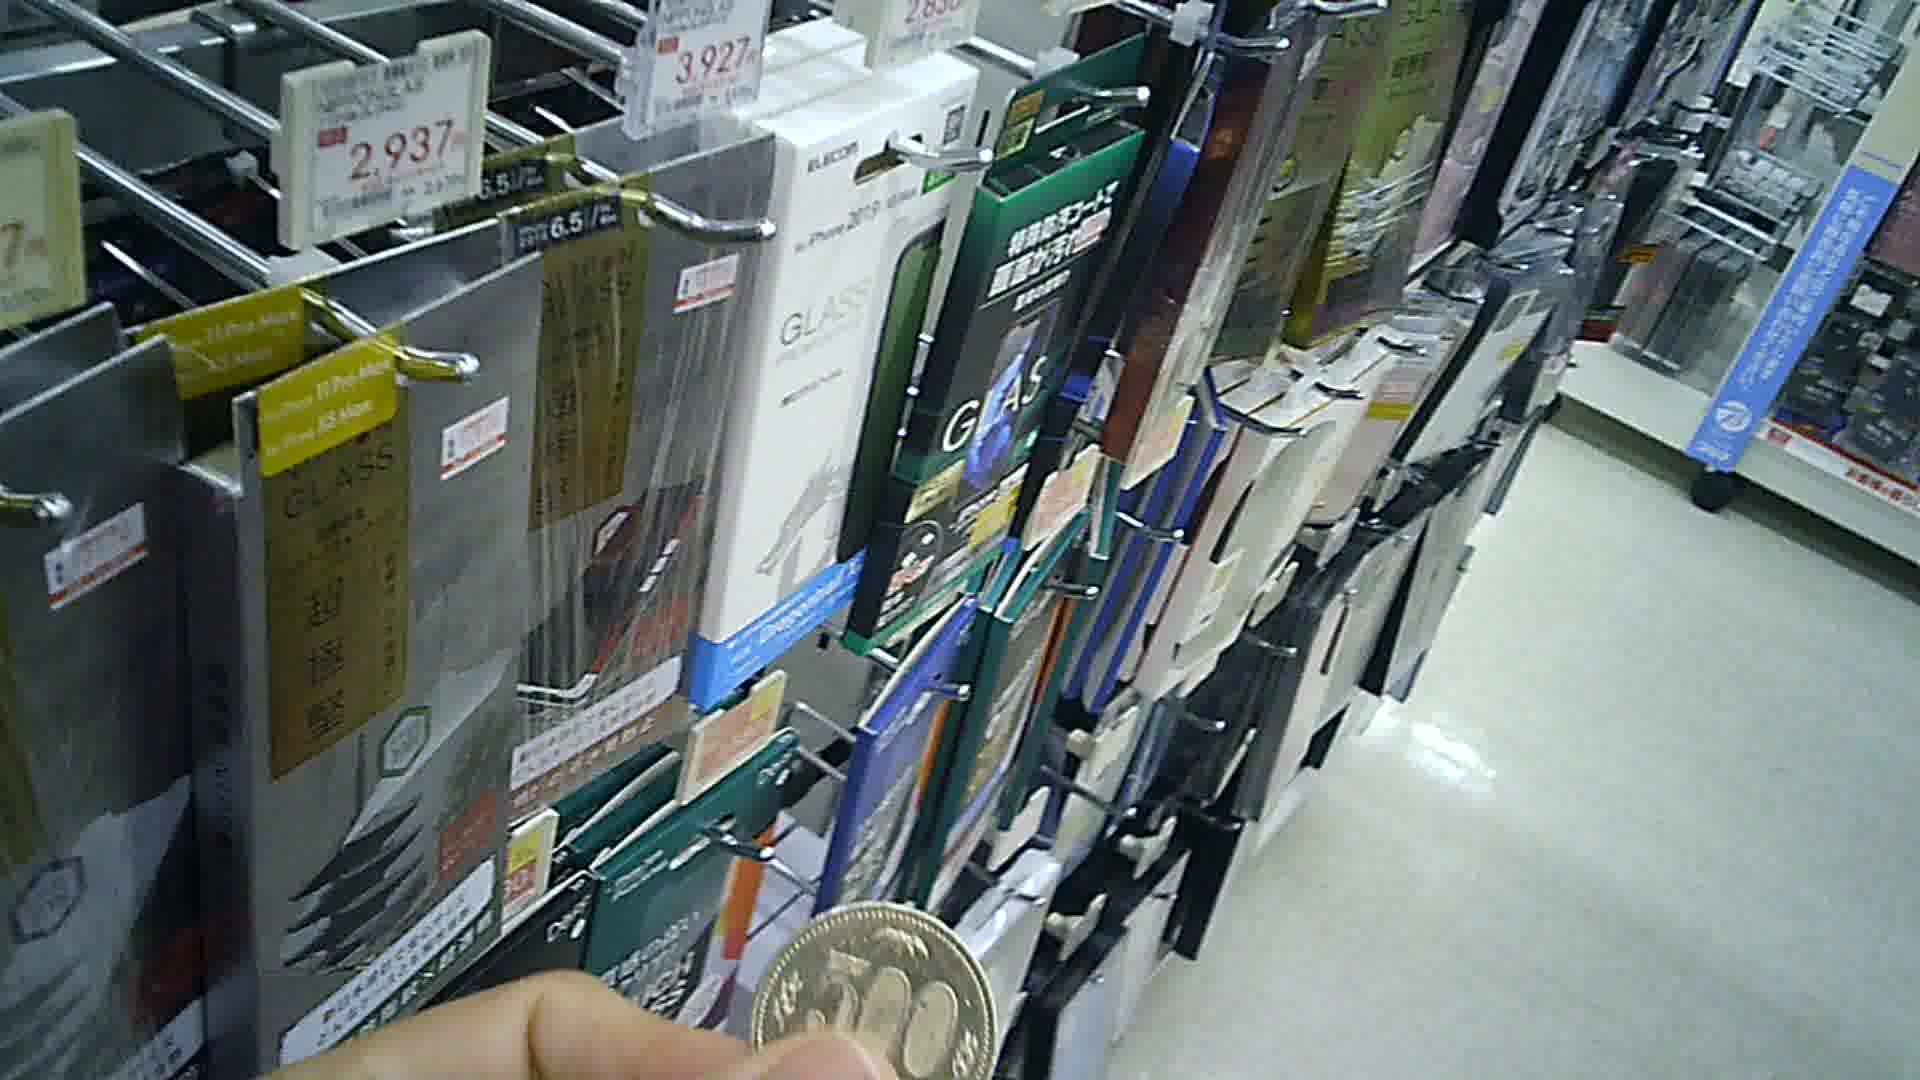500 Yen: (754, 901, 1015, 1079)
